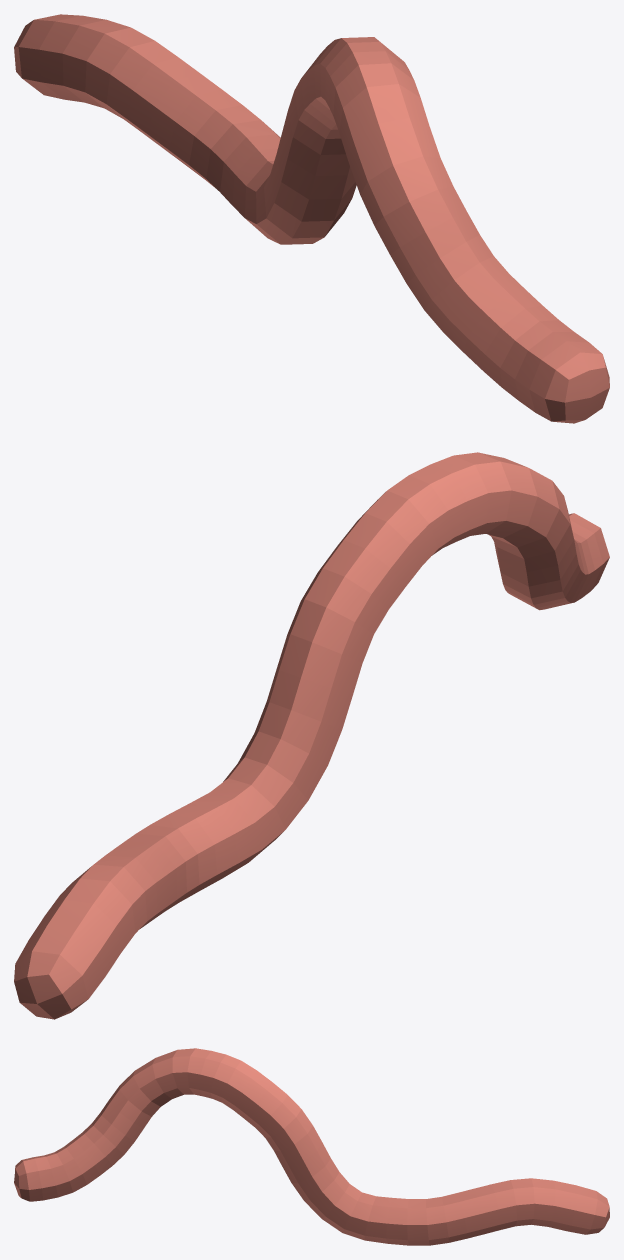
Rendered from worm.glb.
The picture shows the model from 3 angles, top to bottom: view 1: azimuth 30°, elevation 25°; view 2: azimuth 150°, elevation 25°; view 3: azimuth 270°, elevation 25°; orthographic projection. The views are drawn at different scales.
Parts seen in each view (by area): view 1: worm_merged; view 2: worm_merged; view 3: worm_merged.
Boxes of the visible parts, x1,y1,x2,y2 form: worm_merged: [14, 14, 609, 423]; worm_merged: [14, 452, 609, 1019]; worm_merged: [14, 1048, 609, 1245].
Size of the model in its own units: 0.8562 by 1.46 by 4.68.
Materials: 1 (1 with a texture image).
